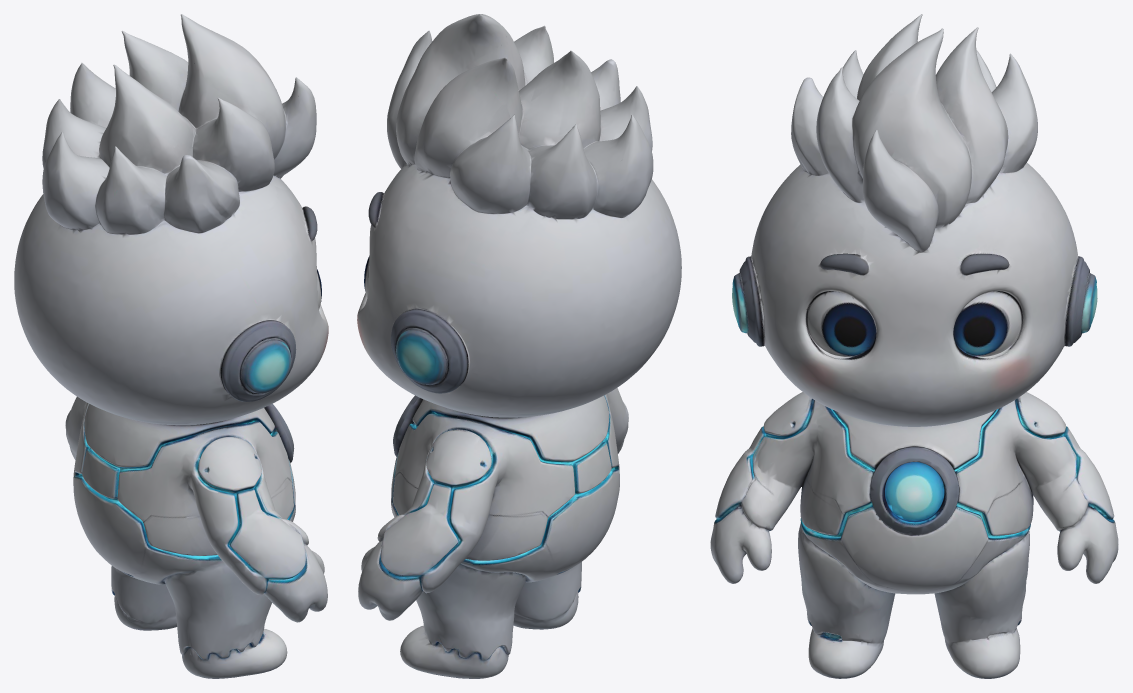
File: guto_teen.glb
3 views of the same model, side by side, from view 1: azimuth 30°, elevation 25°; view 2: azimuth 150°, elevation 25°; view 3: azimuth 270°, elevation 25° (orthographic). The views are drawn at different scales.
Parts seen in each view (by area): view 1: tripo_node_fc86ddc6-52ec-460e-8fd0-5ac52b1a67ad; view 2: tripo_node_fc86ddc6-52ec-460e-8fd0-5ac52b1a67ad; view 3: tripo_node_fc86ddc6-52ec-460e-8fd0-5ac52b1a67ad.
Part boxes in pixels (bbox=[...]): tripo_node_fc86ddc6-52ec-460e-8fd0-5ac52b1a67ad: bbox=[14, 14, 328, 678]; tripo_node_fc86ddc6-52ec-460e-8fd0-5ac52b1a67ad: bbox=[357, 14, 681, 678]; tripo_node_fc86ddc6-52ec-460e-8fd0-5ac52b1a67ad: bbox=[710, 14, 1118, 678].
Bounding box in the file's own units: 0.4524 × 1 × 0.5887.
Materials: 1 (1 with a texture image).
